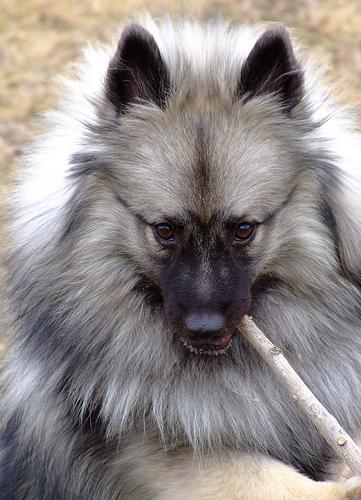dog-keeshond: (95, 22, 305, 357)
